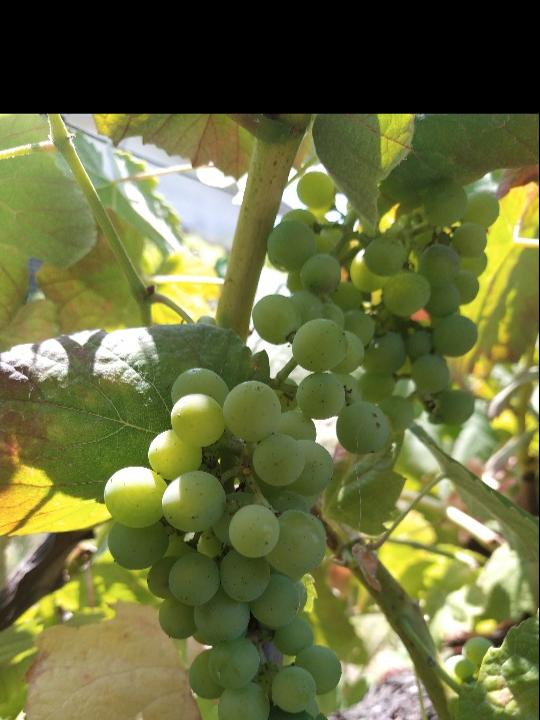grape: (98, 365, 392, 720)
